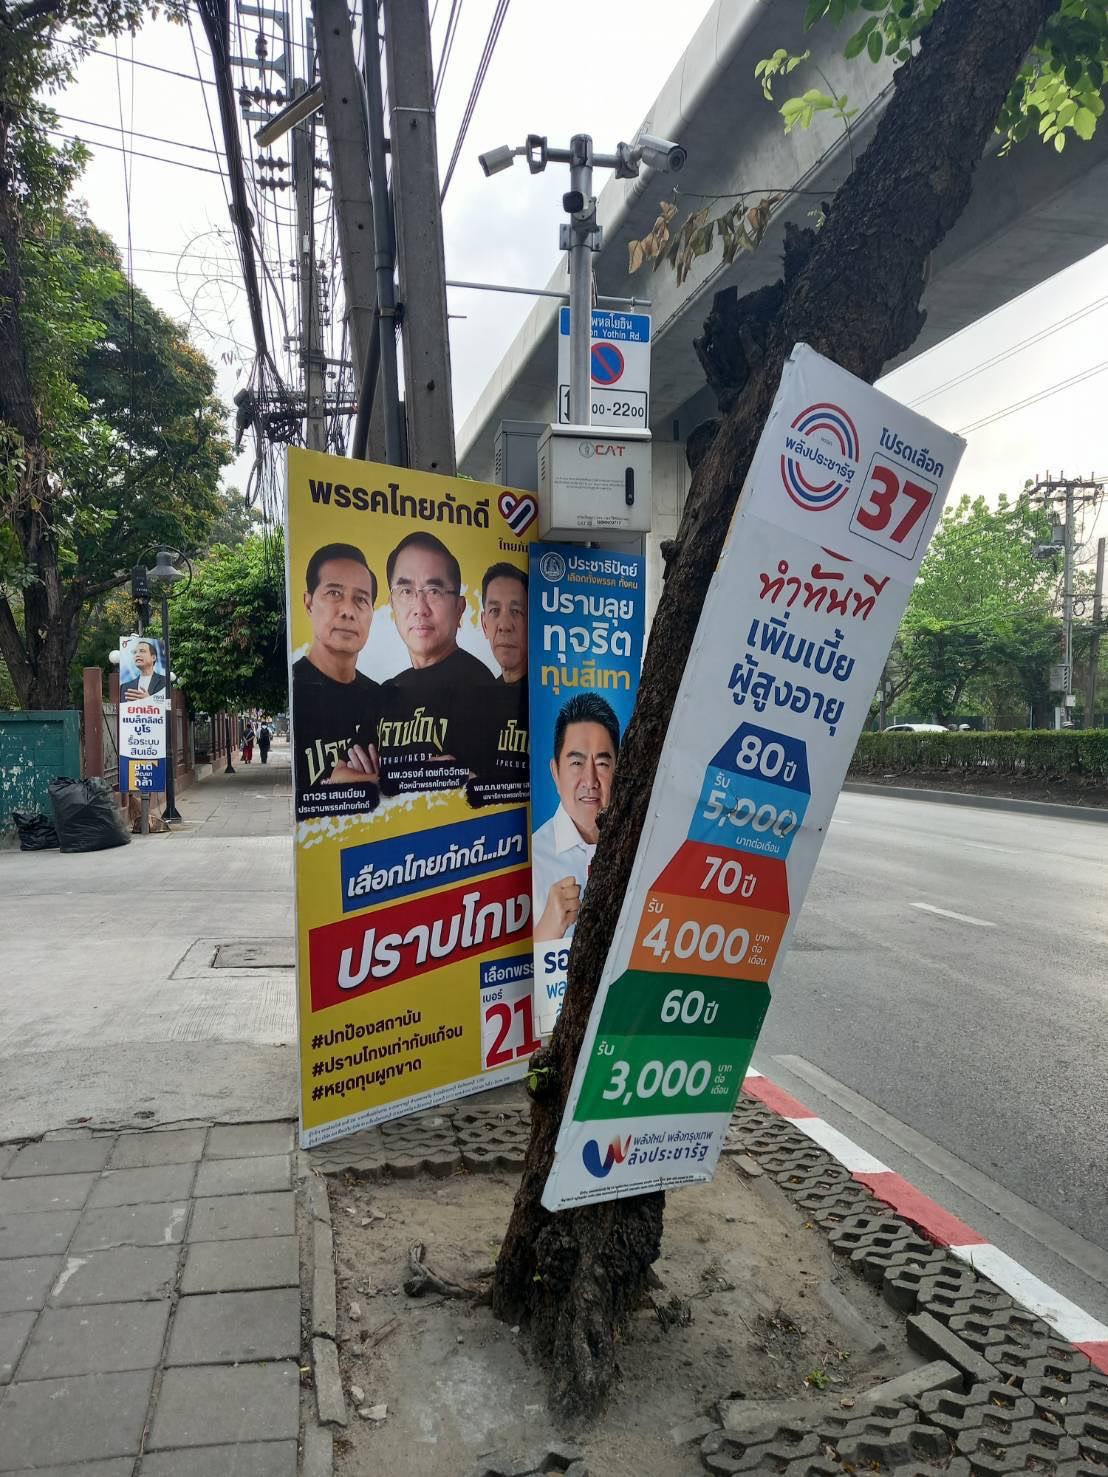Banner: (548, 345, 980, 1227), (283, 441, 533, 1155), (531, 538, 642, 1050)
